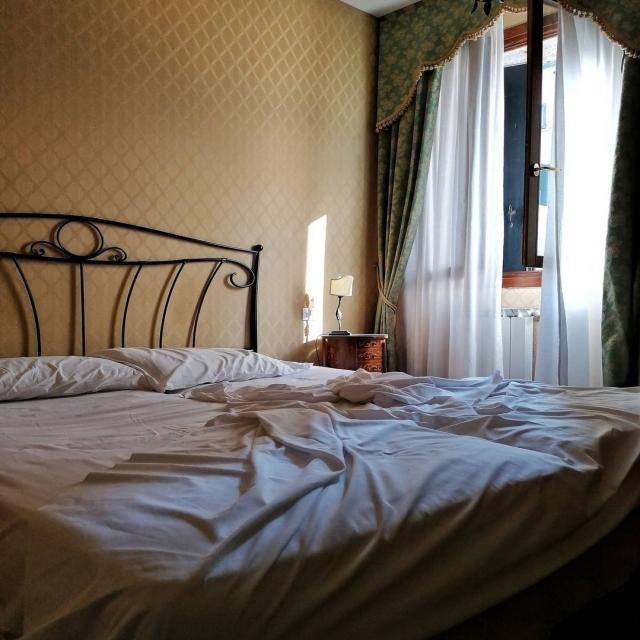bed: (0, 316, 640, 640)
